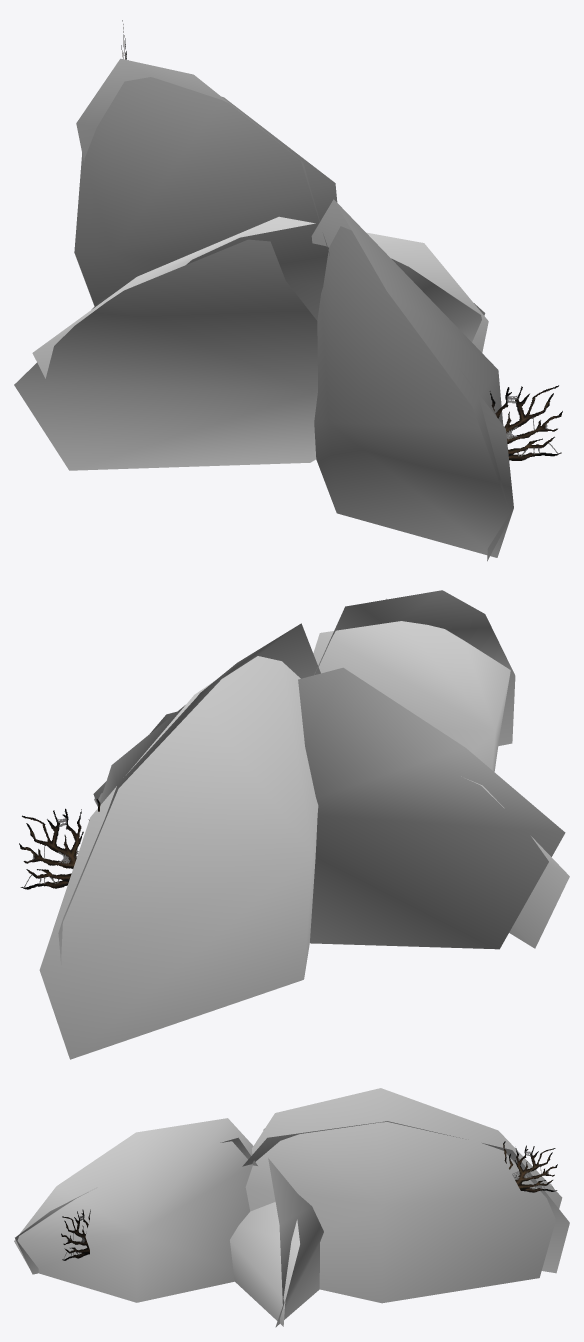
Rendered from duskwoodspookybush02.obj.
The picture shows the model from 3 angles, top to bottom: view 1: azimuth 30°, elevation 25°; view 2: azimuth 150°, elevation 25°; view 3: azimuth 270°, elevation 25°; orthographic projection. The views are drawn at different scales.
Parts seen in each view (by area): view 1: DUSKWOODSPOOKYBUSH020, DUSKWOODSPOOKYBUSH021; view 2: DUSKWOODSPOOKYBUSH020, DUSKWOODSPOOKYBUSH021; view 3: DUSKWOODSPOOKYBUSH020, DUSKWOODSPOOKYBUSH021.
Boxes of the visible parts, <box> form: DUSKWOODSPOOKYBUSH020: <box>14,58,513,561</box>; DUSKWOODSPOOKYBUSH021: <box>121,20,562,460</box>; DUSKWOODSPOOKYBUSH020: <box>39,590,569,1059</box>; DUSKWOODSPOOKYBUSH021: <box>19,599,386,889</box>; DUSKWOODSPOOKYBUSH020: <box>14,1088,569,1327</box>; DUSKWOODSPOOKYBUSH021: <box>61,1141,557,1260</box>.
Size of the model in its own units: 7.77 by 4.54 by 12.8.
